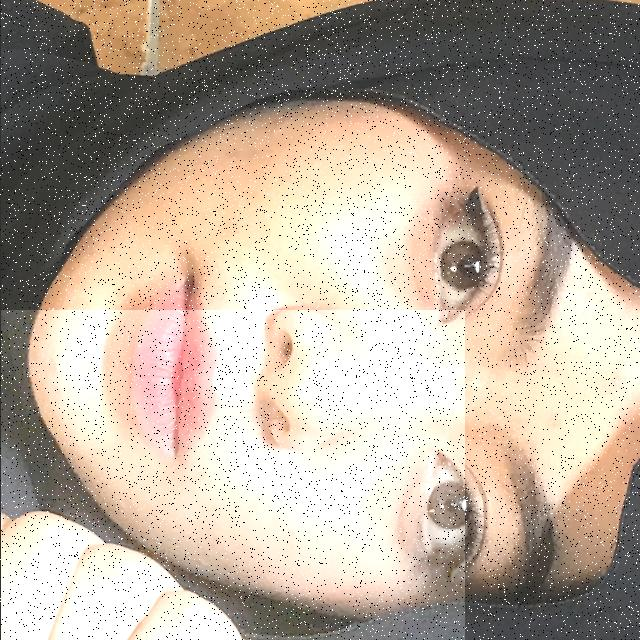sedih: (0, 310, 464, 640)
